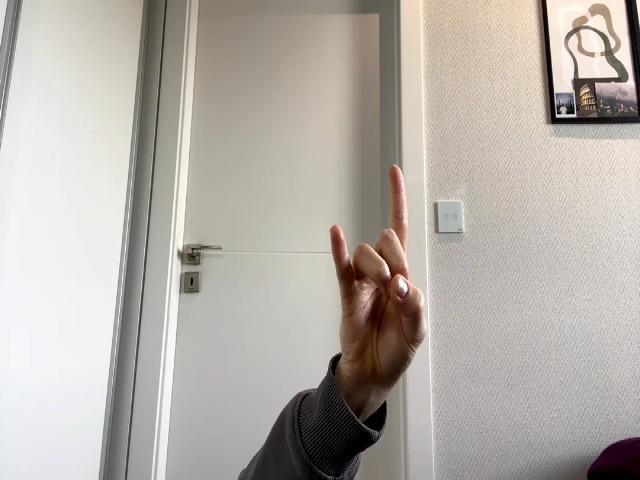Y: (330, 165, 428, 381)
